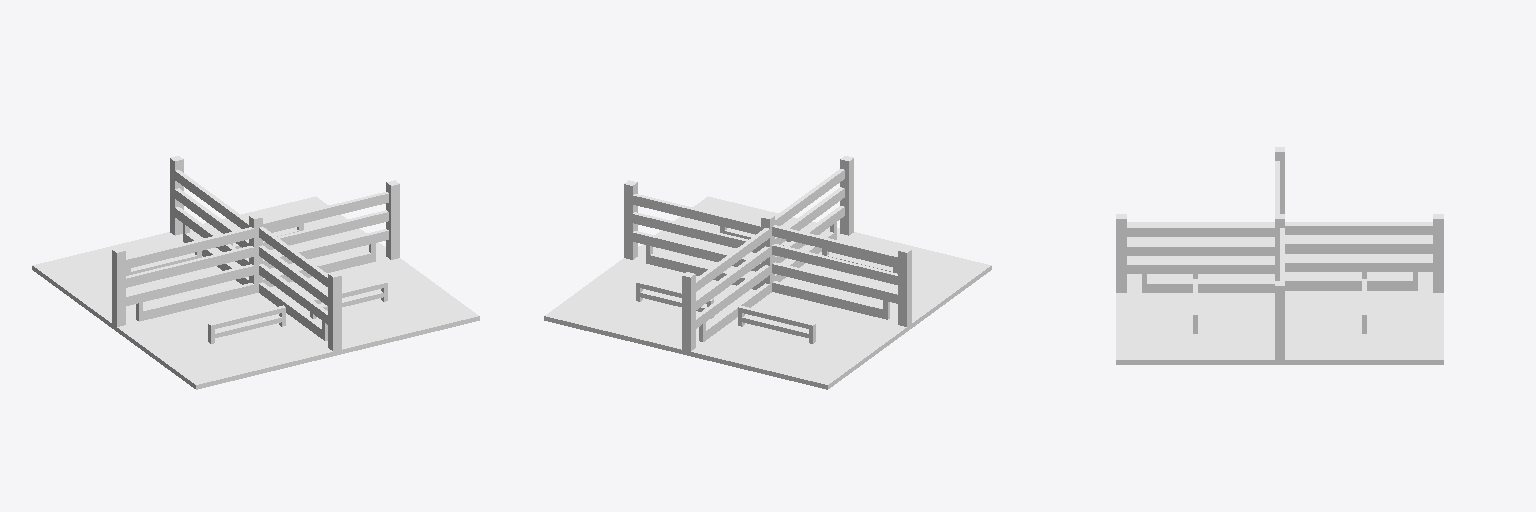
File: padel.obj
3 renders of one model, left to right at view 1: azimuth 30°, elevation 25°; view 2: azimuth 150°, elevation 25°; view 3: azimuth 270°, elevation 25°, orthographic.
Visible parts, largest first — view 1: object 1; view 2: object 1; view 3: object 1.
Boxes of the visible parts, x1=… form: object 1: x1=32, y1=156, x2=479, y2=389; object 1: x1=544, y1=156, x2=991, y2=389; object 1: x1=1116, y1=147, x2=1443, y2=364.
Size of the model in its own units: 6.4 by 1.7 by 6.4.